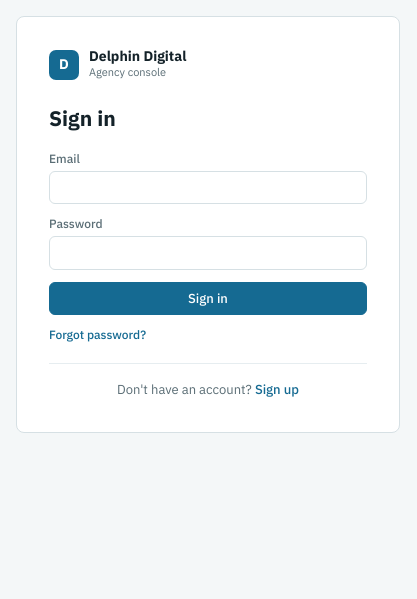
Test case: sign in › links to sign-up from the login page
Expected: the text "Don't have an account?" is shown, 117,381 -> 252,398
Click the link "Sign up" at (277, 390), box 255,381 -> 299,398
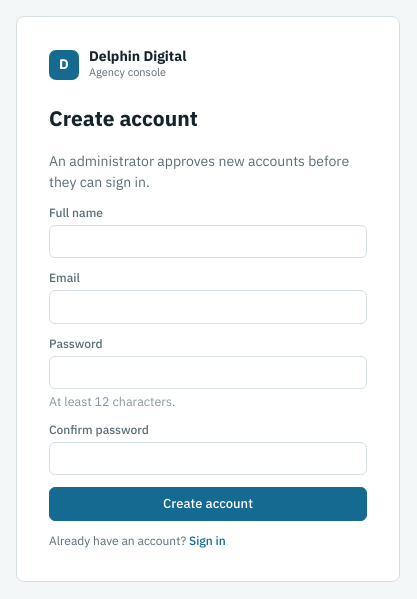
Result: the heading "Create account" is shown at 49,104 -> 198,132
